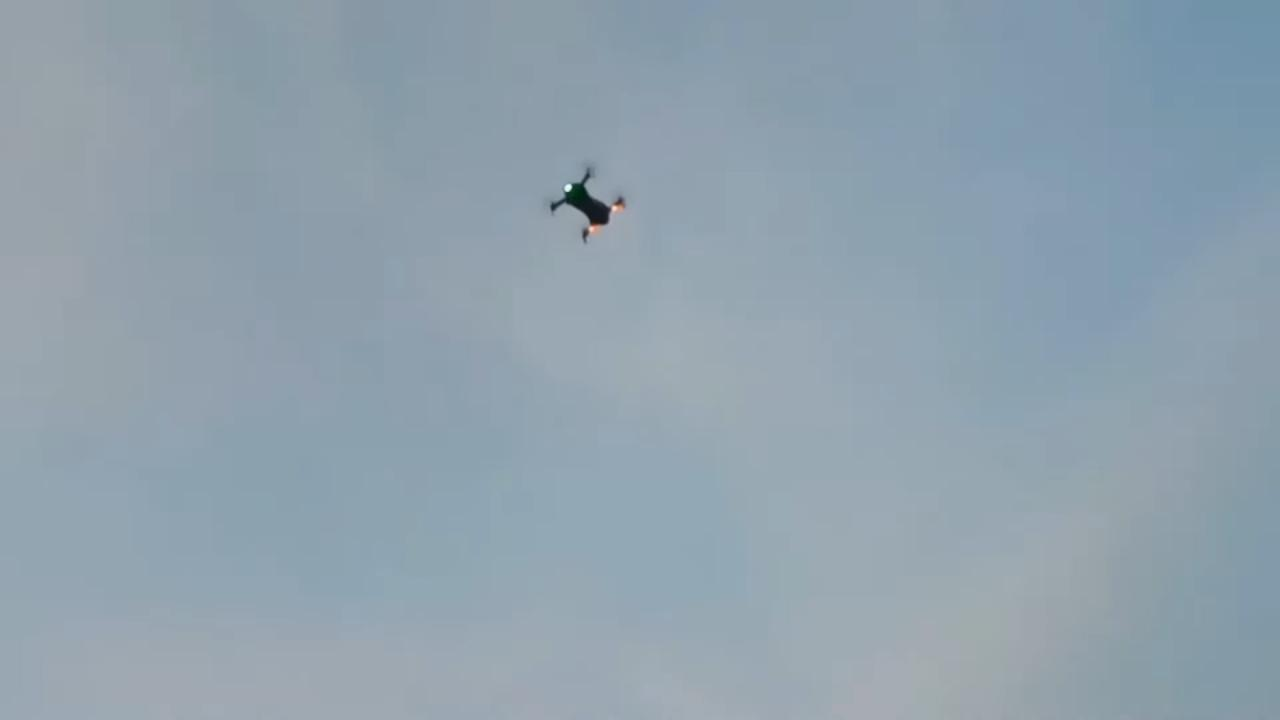Drone: (533, 152, 646, 253)
